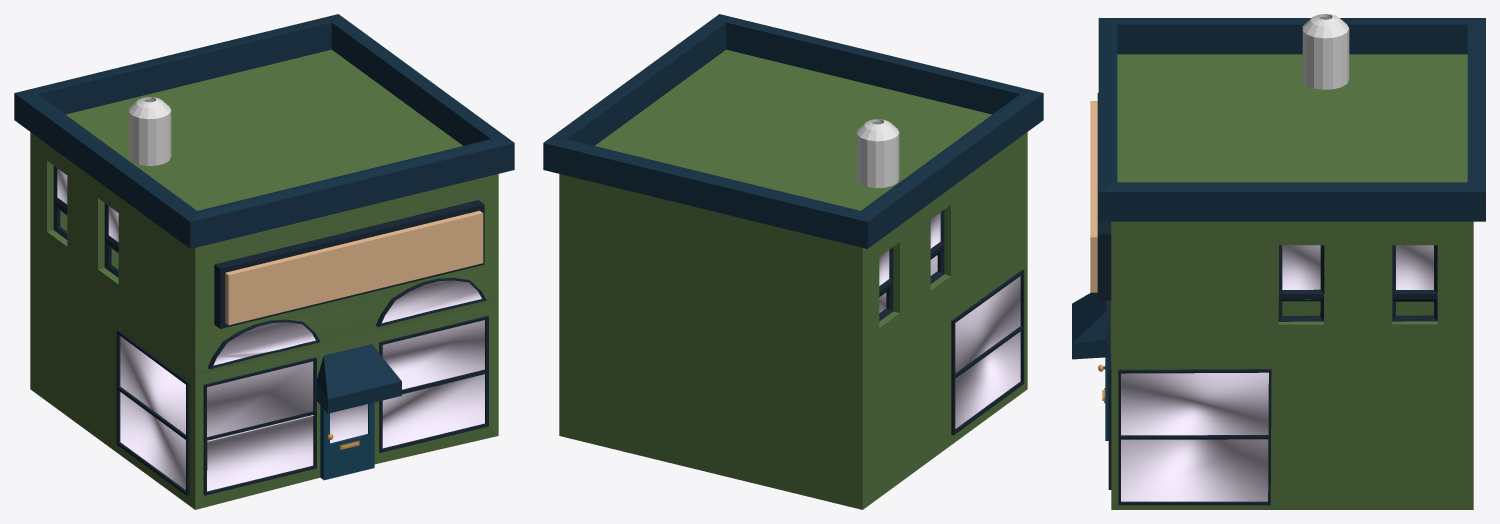
Rendered from Bookstore Green.fbx.
3 views of the same model, side by side, from view 1: azimuth 30°, elevation 25°; view 2: azimuth 150°, elevation 25°; view 3: azimuth 270°, elevation 25° (orthographic). The views are drawn at different scales.
Visible parts, largest first — view 1: Plane.011; view 2: Plane.011; view 3: Plane.011.
Boxes of the visible parts, bbox=[...] form: Plane.011: bbox=[14, 14, 514, 509]; Plane.011: bbox=[543, 14, 1043, 509]; Plane.011: bbox=[1072, 14, 1485, 509].
Size of the model in its own units: 2948 by 2833 by 2966.
